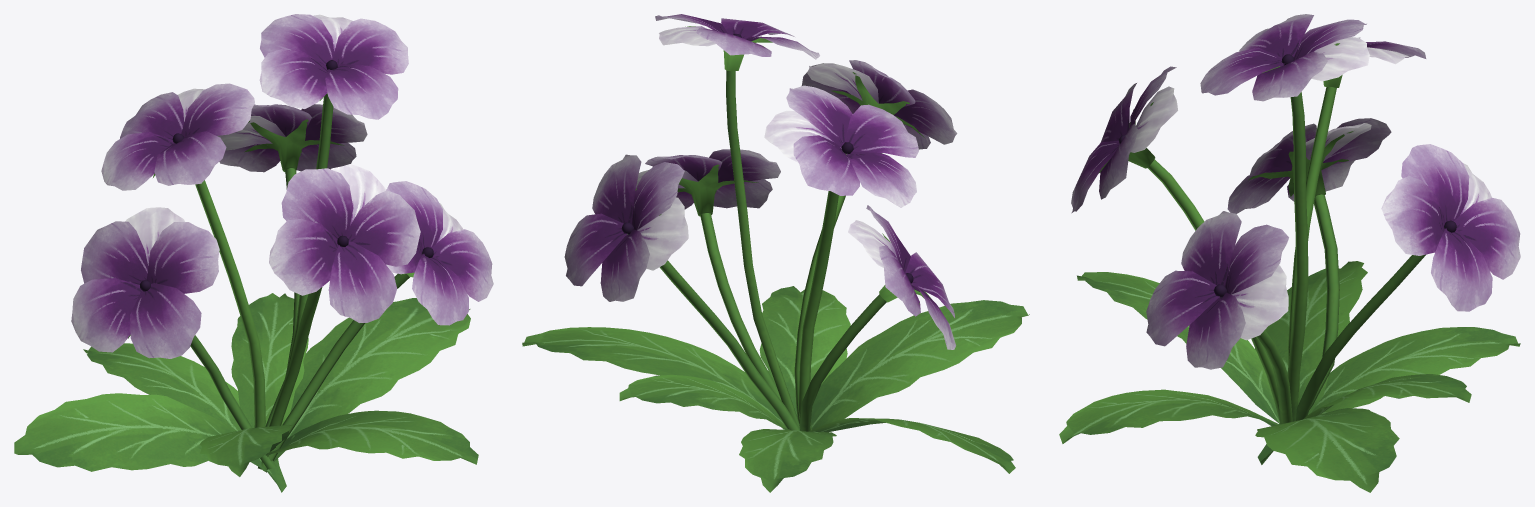
File: MemoRoute_Pansy.fbx
3 views of the same model, side by side, from view 1: azimuth 30°, elevation 25°; view 2: azimuth 150°, elevation 25°; view 3: azimuth 270°, elevation 25° (orthographic). The views are drawn at different scales.
Visible parts, largest first — view 1: MemoRoute_Pansy; view 2: MemoRoute_Pansy; view 3: MemoRoute_Pansy.
Part boxes in pixels (<box>): MemoRoute_Pansy: <box>14,14,493,492</box>; MemoRoute_Pansy: <box>522,14,1029,492</box>; MemoRoute_Pansy: <box>1059,14,1520,492</box>.
Bounding box in the file's own units: 9.76 × 8.61 × 7.71.
